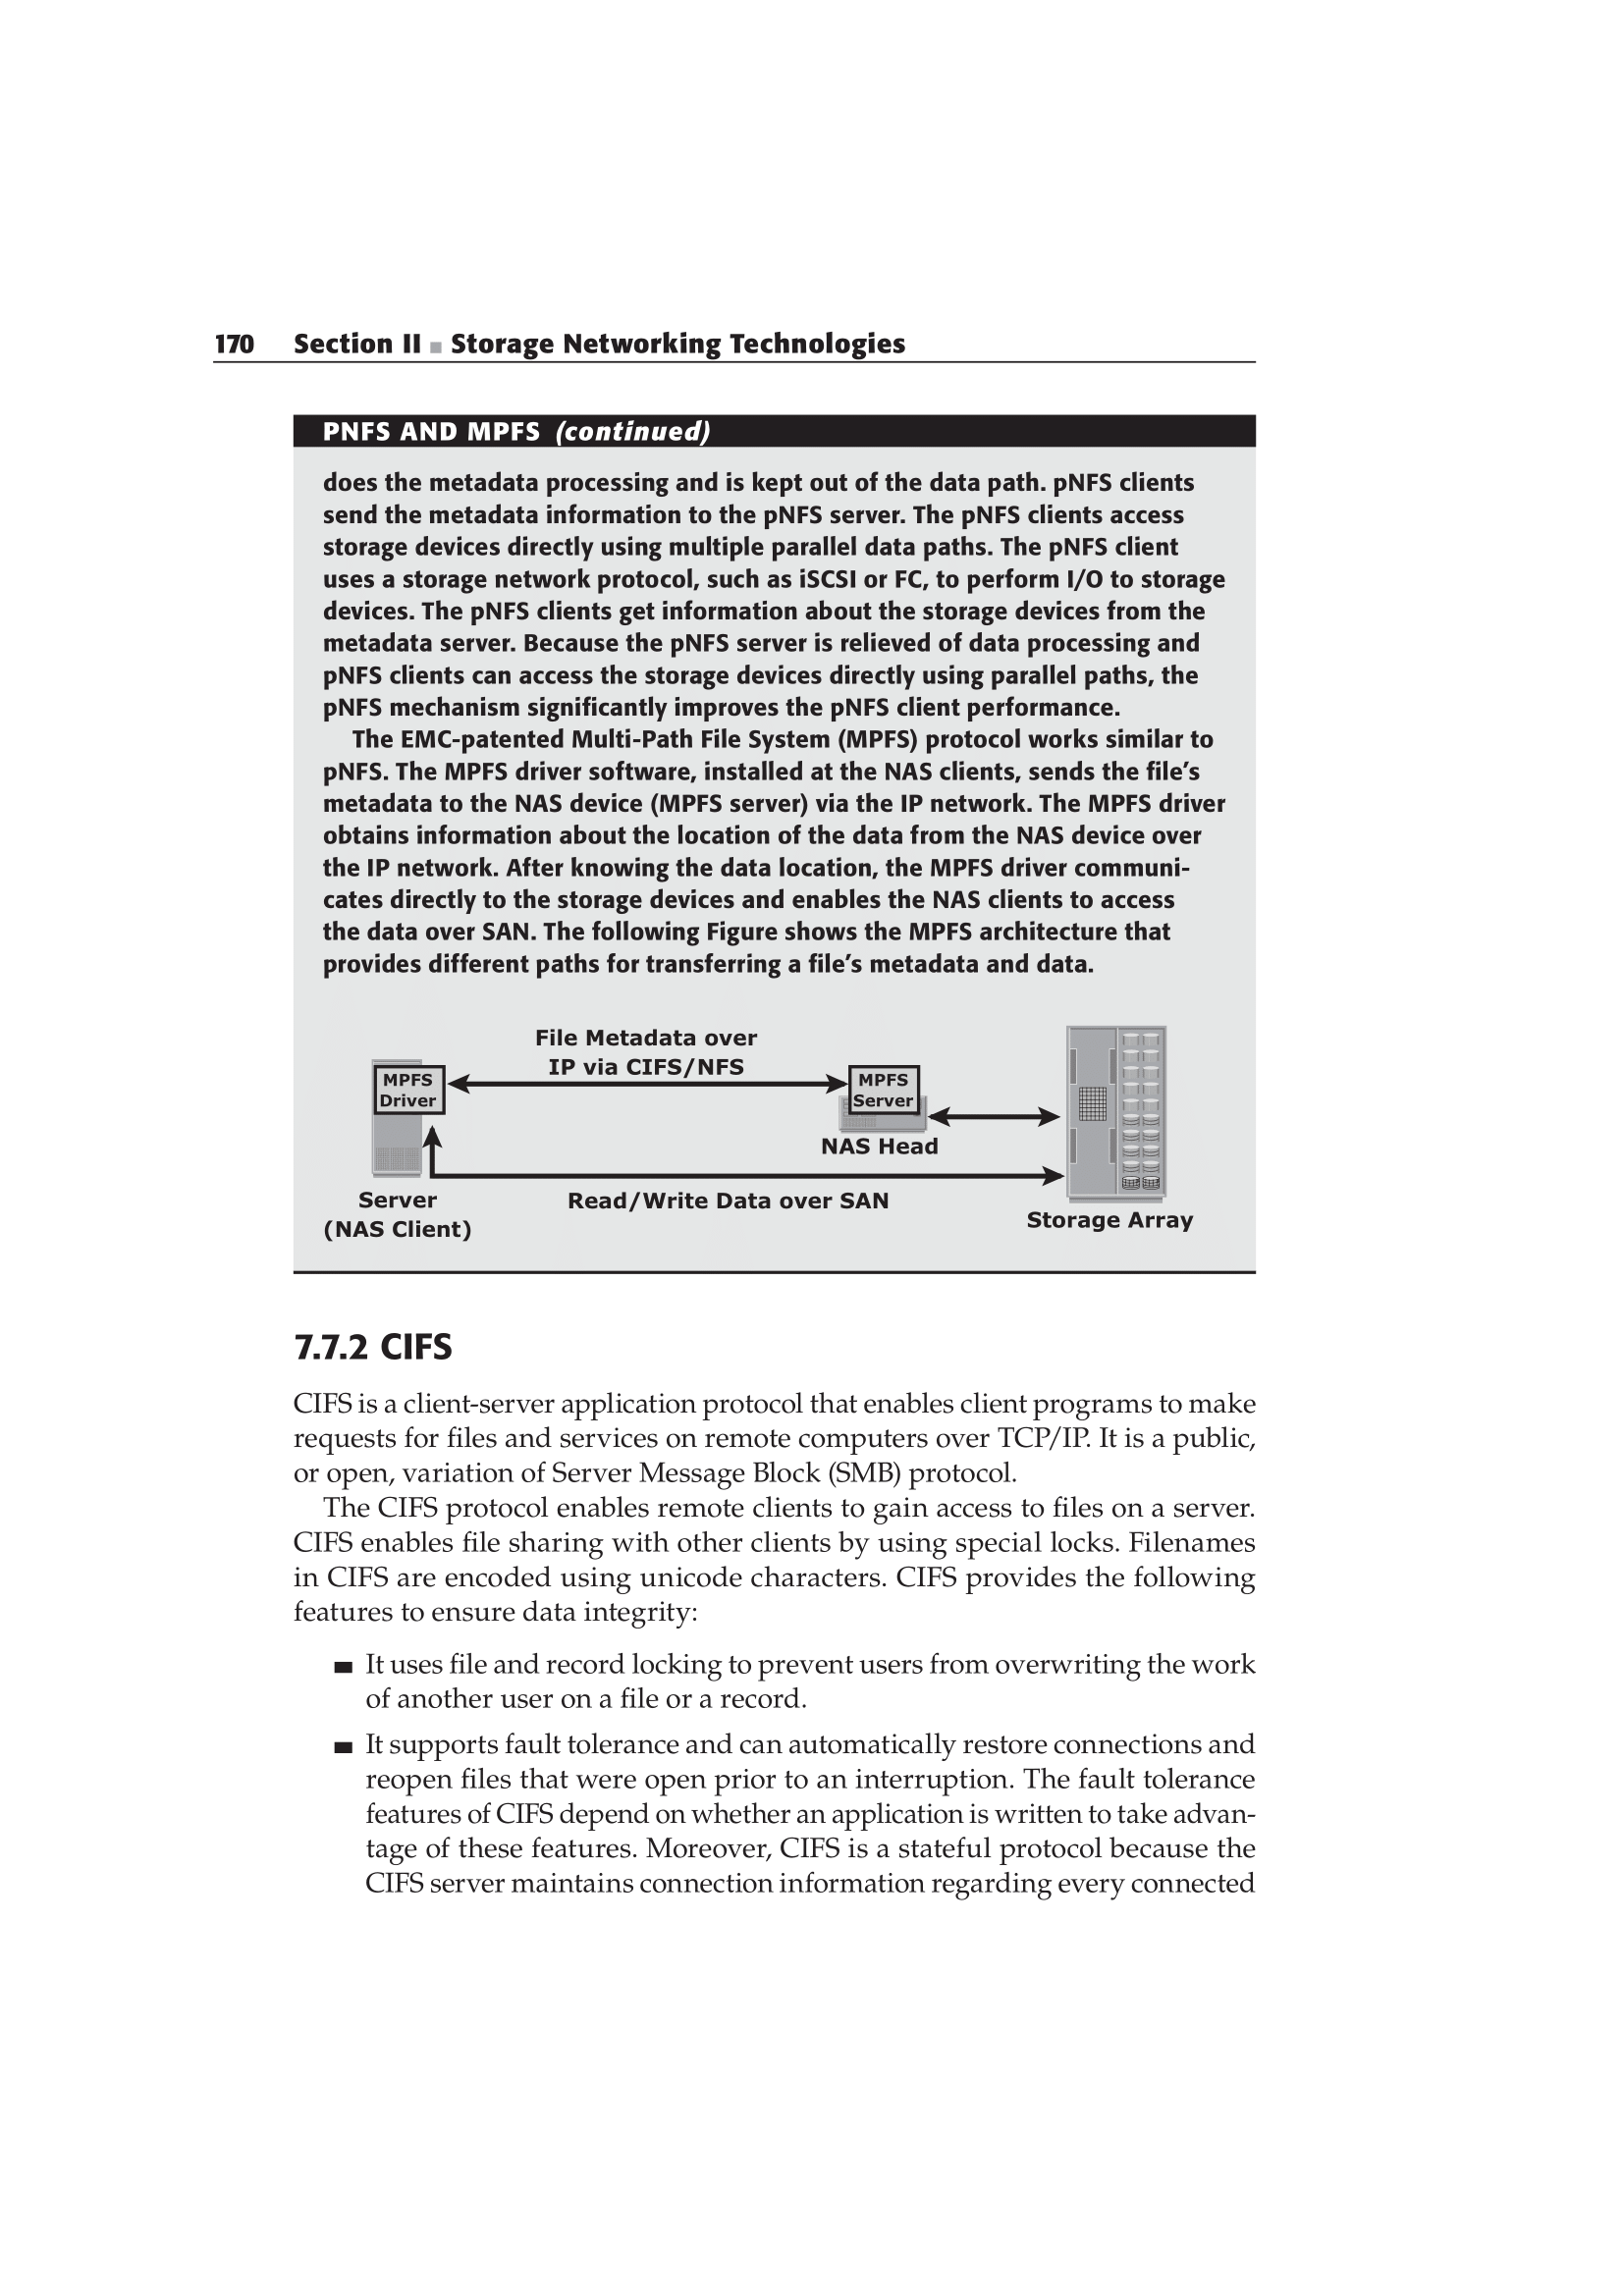Image: (276, 1006, 1252, 1269)
Paragraph: (297, 462, 1215, 1006), (167, 1371, 1382, 1622), (239, 1722, 1446, 1948), (227, 1647, 1467, 1713), (197, 293, 985, 393), (197, 411, 1237, 448), (218, 1302, 550, 1362)
